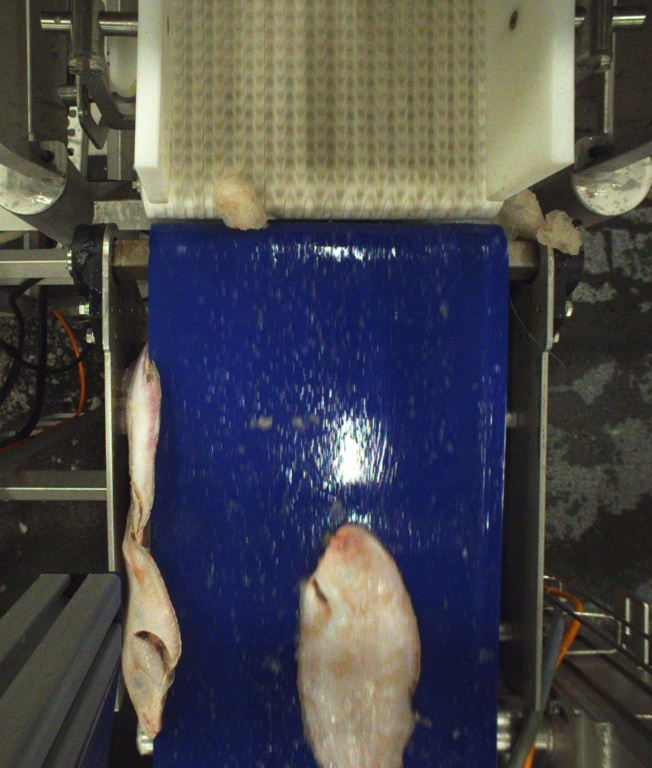SOL: (295, 521, 421, 768)
